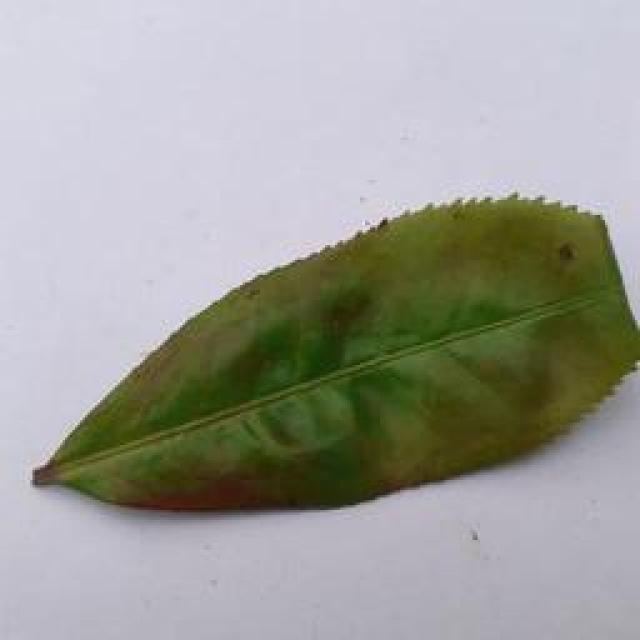Red Leaf Spot: (25, 181, 640, 518)
